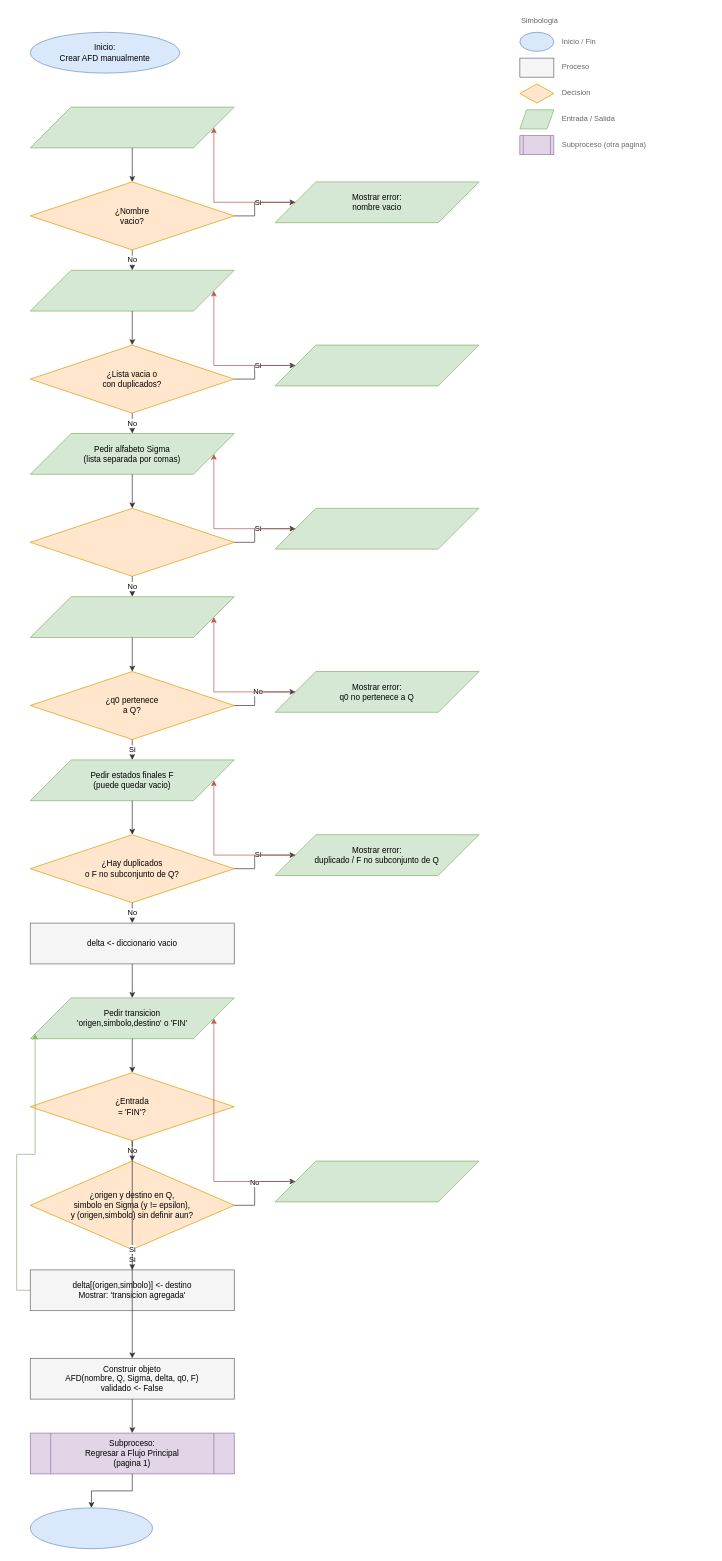
Image size: 722x1561. Some labels were removed from this diagram. The centre of each missing label's shape, as x and y in pixels:
Fin: (x=91, y=1528)
Mostrar error especifico (estado/simbolo invalido o transicion duplicada): (x=376, y=1181)
Mostrar error: vacio / duplicado / epsilon: (x=376, y=528)
Mostrar error: vacio o duplicado: (x=376, y=365)
Pedir estado inicial q0: (x=132, y=617)
Pedir estados Q (lista separada por comas): (x=132, y=290)
Pedir nombre del automata: (x=132, y=127)
¿Vacio, duplicado o contiene epsilon?: (x=132, y=542)
